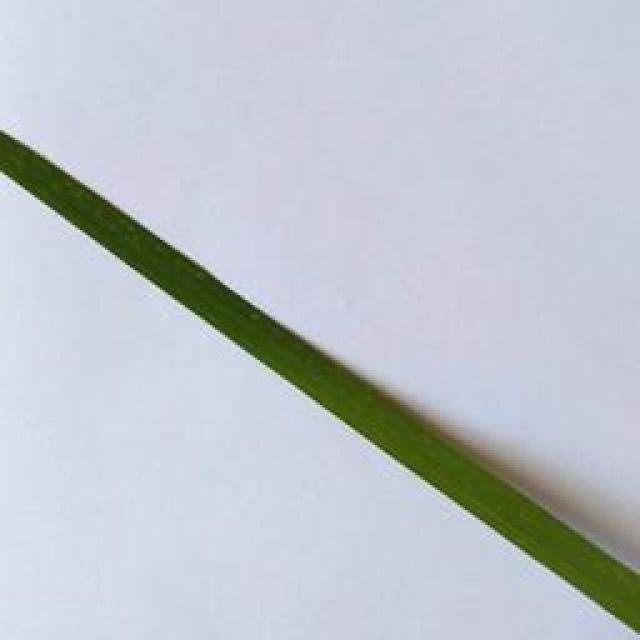Healthy-Plant: (0, 128, 640, 632)
